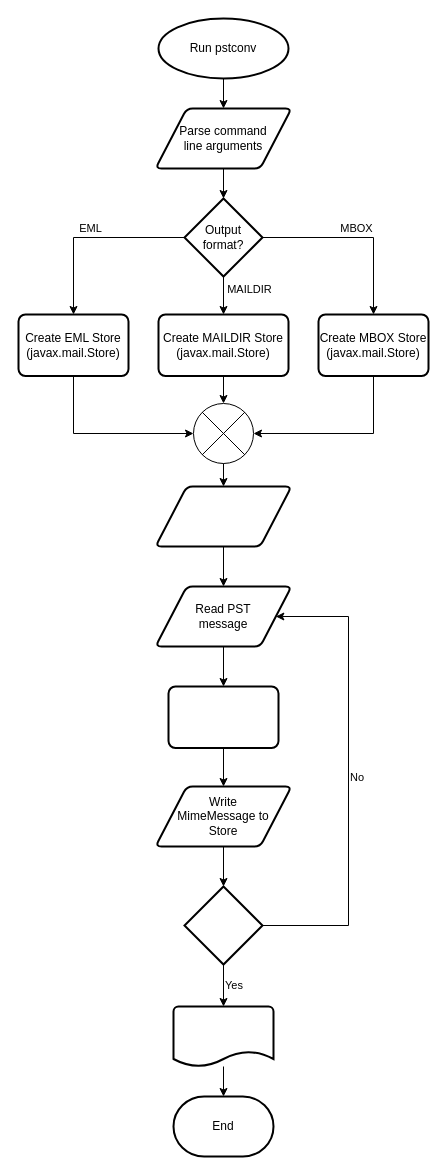
The diagram is 446 pixels wide and 1174 high, and some of its shapes have lost their labels. The centre of each missing label's shape, as x and y in pixels:
Convert to MimeMessage (javax.mail.internet): pixel 223 716
Converted mailbox directory: pixel 223 1036
End of PST file?: pixel 223 925
Open OST/PST file: pixel 223 516
